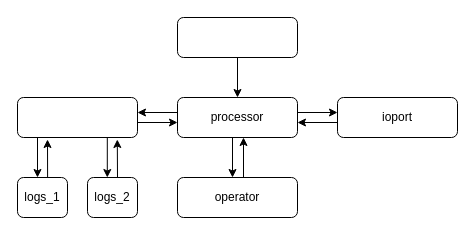
The diagram is 475 pixels wide and 235 high, and some of its shapes have lost their labels. The shapes that lost their labels are listed below. From the top down, each one's centre as x and y in pixels, then its label:
[237,37]: start
[77,117]: logger
